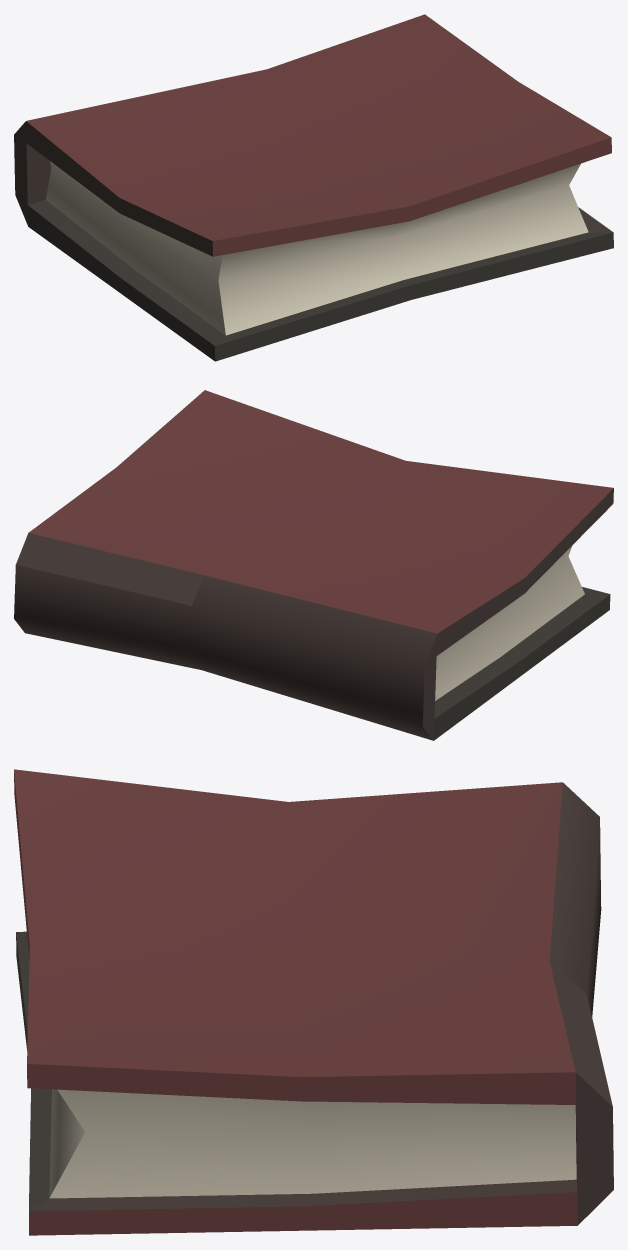
File: Closed_Herbarium.fbx
3 views of the same model, one above another, from view 1: azimuth 30°, elevation 25°; view 2: azimuth 150°, elevation 25°; view 3: azimuth 270°, elevation 25° (orthographic). The views are drawn at different scales.
Parts seen in each view (by area): view 1: Closed_Herbarium; view 2: Closed_Herbarium; view 3: Closed_Herbarium.
Boxes of the visible parts, x1,y1,x2,y2 form: Closed_Herbarium: (14, 14, 613, 361); Closed_Herbarium: (14, 390, 613, 740); Closed_Herbarium: (14, 769, 613, 1235).
Bounding box in the file's own units: 0.4265 × 0.1228 × 0.3556.
